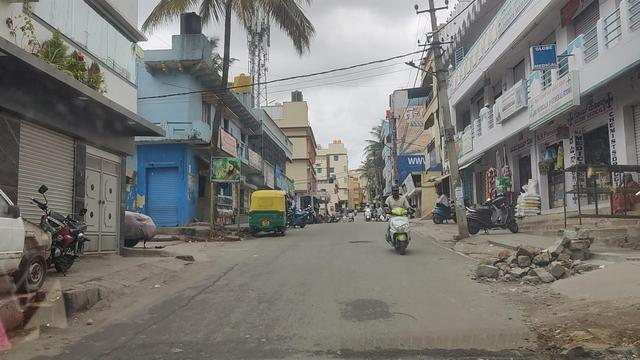LMV: (382, 185, 414, 258)
RoadDamages: (375, 307, 423, 334), (347, 238, 375, 250)
